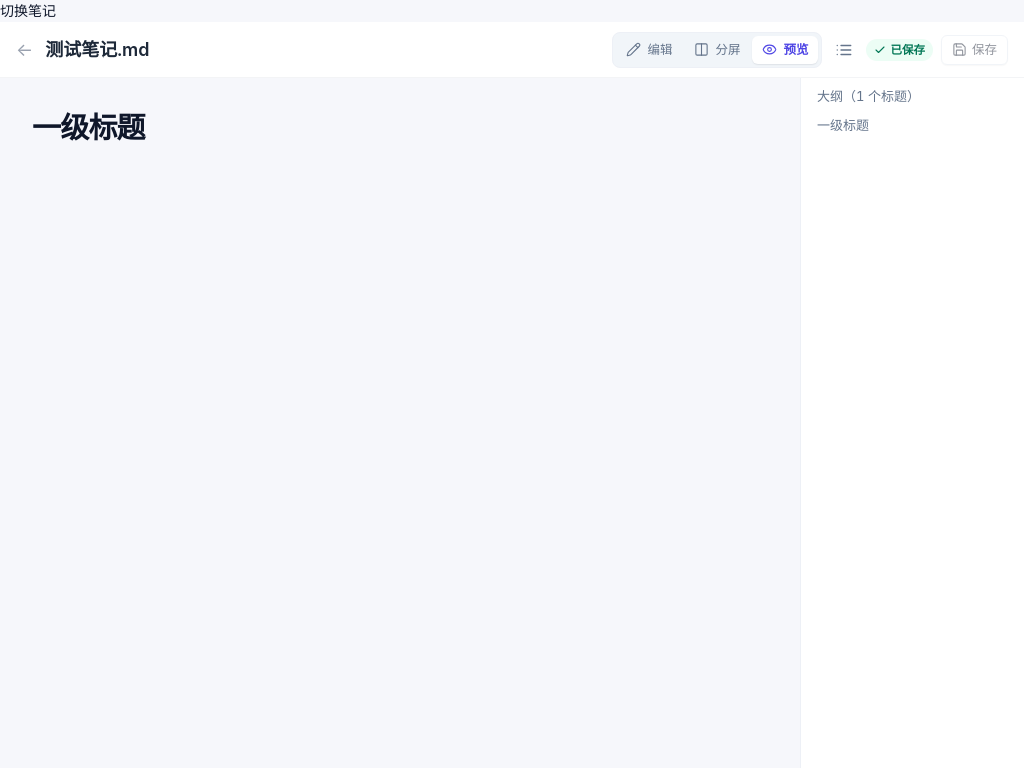
Test case: 笔记编辑页：大纲栏显示与折叠（#4-a，AC-7 / AC-8） › 编辑模式不渲染大纲栏与大纲开关（跳转依赖预览区 DOM）
Check: the text "大纲（1 个标题）" is shown, box [817,88,920,104]
Click the tab "编辑": coordinates (649, 50) [616,36,682,64]
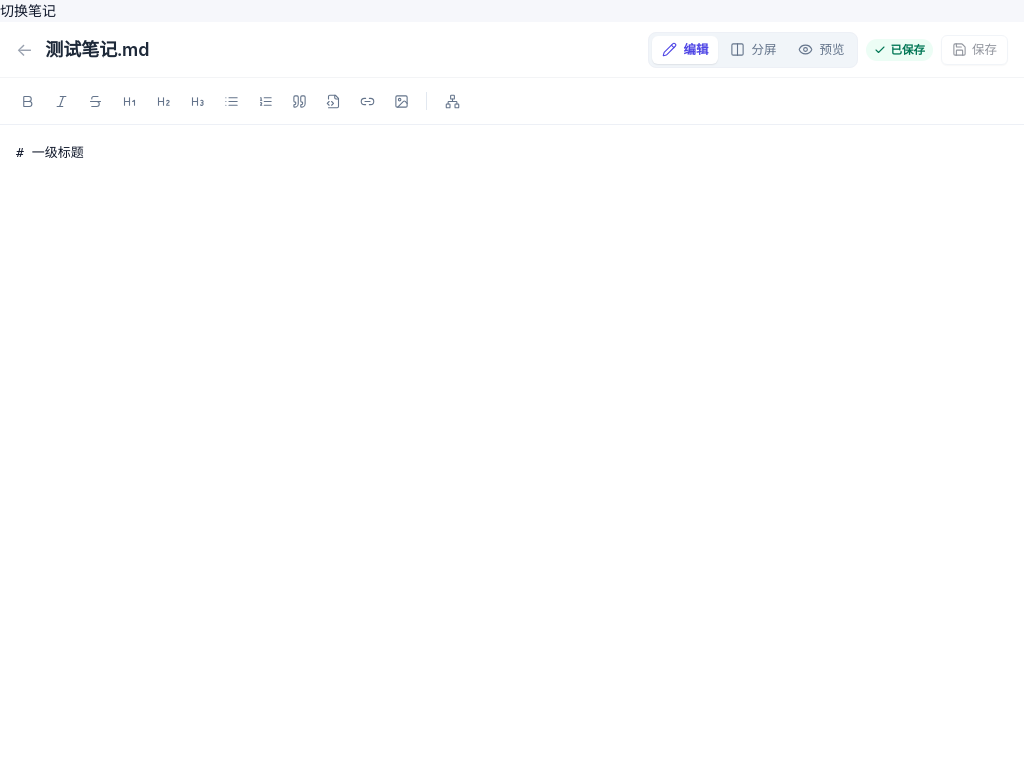
Check: the text "大纲（" is gone
Check: the text "大纲" is gone
